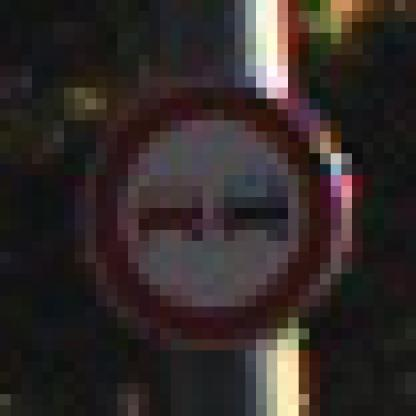No Overtaking: (65, 56, 364, 362)
